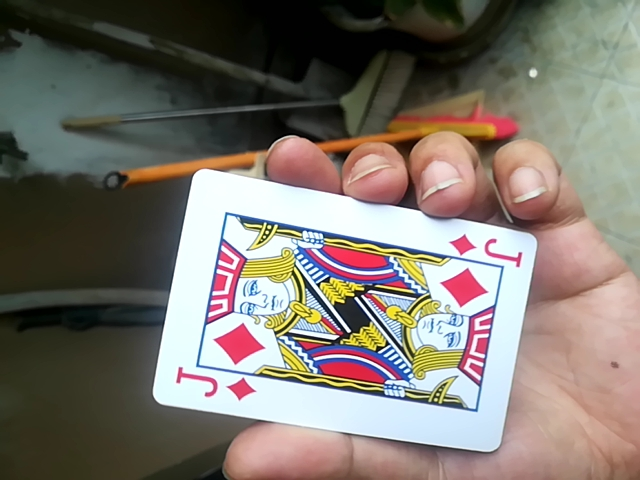fk j: (152, 166, 535, 457)
